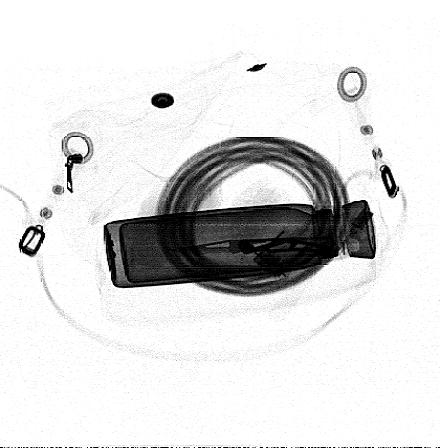Knife: (163, 235, 336, 258)
